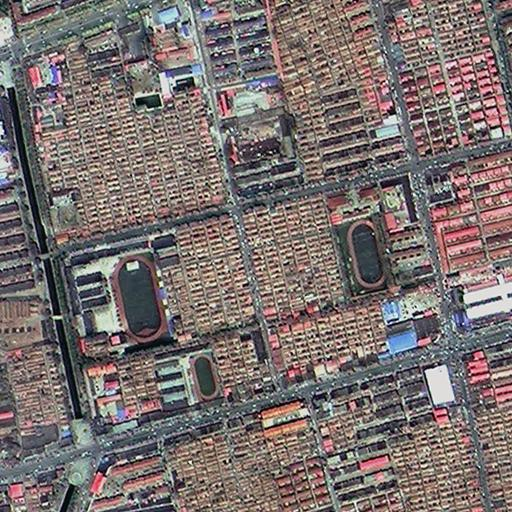school: (324, 178, 399, 299), (153, 346, 223, 417)
